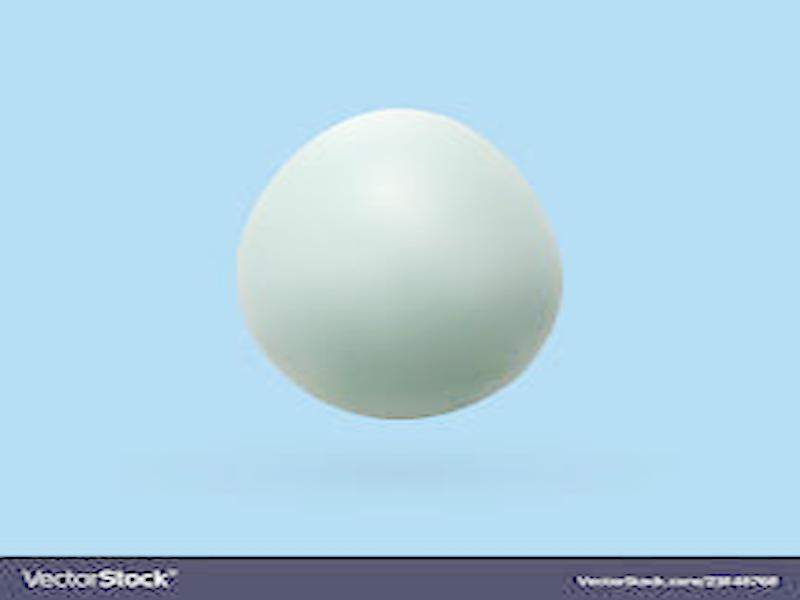Eggs: (237, 108, 567, 417)
